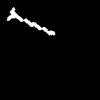half_double_crochet: (7, 8, 54, 34)
